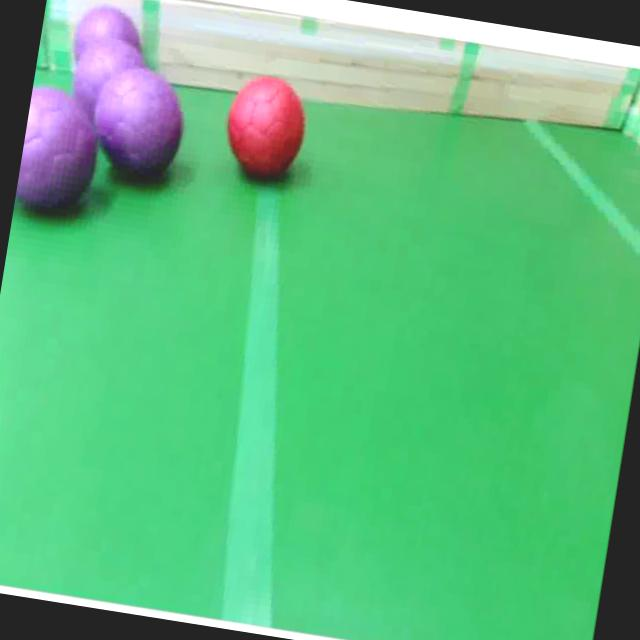purple_ball: (13, 86, 106, 222), (90, 69, 190, 188), (70, 36, 143, 112), (68, 3, 146, 68)
red_ball: (220, 72, 314, 186)
